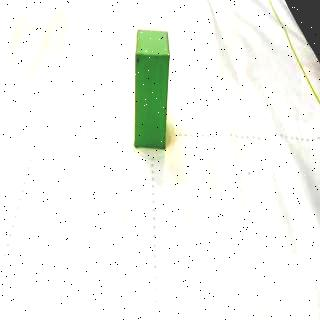greenbox: (132, 27, 172, 149)
